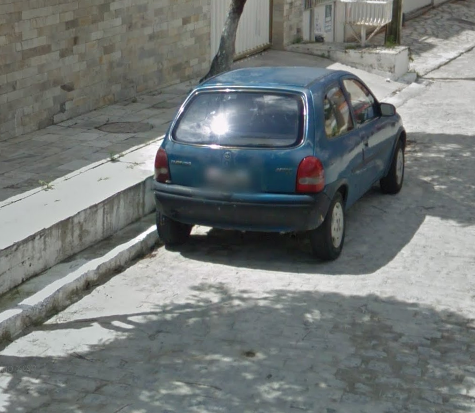car: (151, 64, 407, 262)
